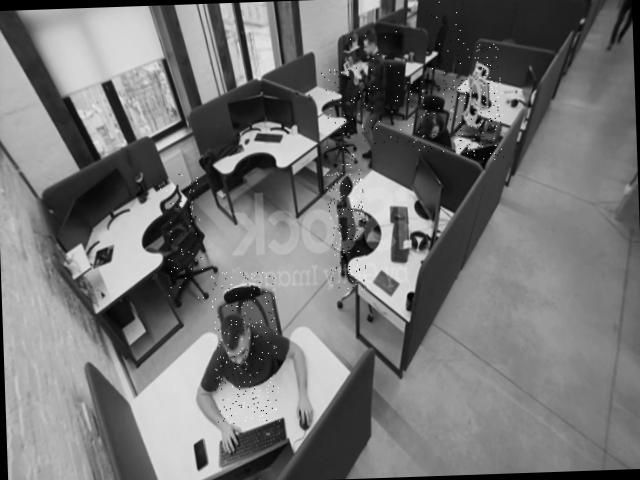empty chair: (160, 173, 204, 305), (326, 164, 366, 291), (462, 42, 504, 160), (427, 0, 474, 79), (320, 68, 355, 159)
occupiedchair: (210, 270, 280, 424), (407, 80, 466, 154)
